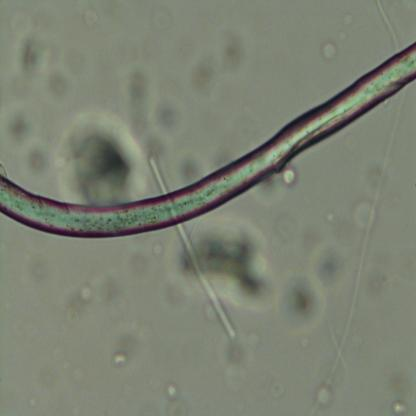Background material: (54, 107, 146, 203), (177, 222, 277, 308), (275, 276, 322, 332), (311, 237, 353, 289), (164, 148, 206, 190), (120, 57, 152, 112), (52, 279, 87, 329), (0, 8, 48, 43), (97, 276, 134, 318), (192, 47, 221, 97), (153, 93, 183, 141), (219, 24, 246, 74), (3, 108, 33, 150), (114, 320, 145, 360), (21, 140, 50, 181), (23, 33, 45, 76), (51, 64, 70, 109), (354, 202, 378, 235), (78, 0, 103, 30), (361, 266, 387, 294), (263, 374, 286, 403), (125, 247, 146, 273), (222, 348, 244, 368), (109, 349, 130, 367), (67, 54, 84, 75), (317, 385, 335, 404), (151, 238, 168, 258), (324, 39, 337, 63), (281, 166, 297, 185), (390, 399, 410, 414), (79, 284, 95, 302), (166, 380, 179, 402)
Glass filter fibre: (304, 87, 410, 415), (174, 222, 236, 338), (324, 316, 350, 372), (375, 1, 399, 53), (147, 157, 170, 195)
Microfibre: (0, 41, 416, 240)
